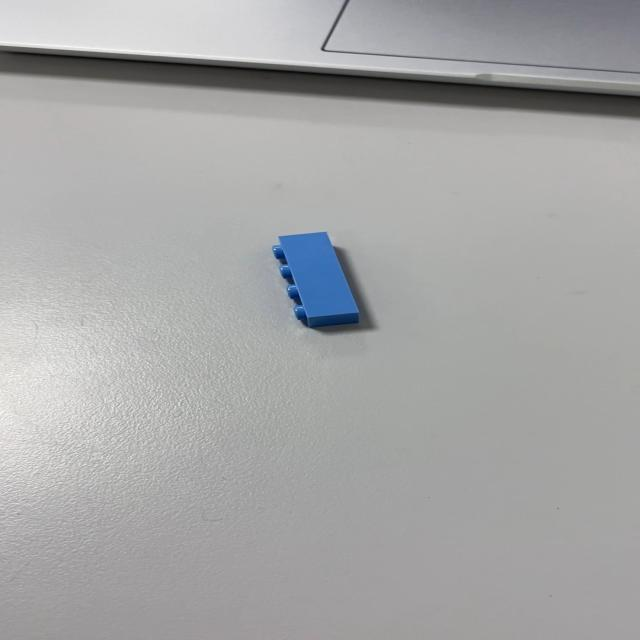C4x1x1: (270, 230, 361, 329)
